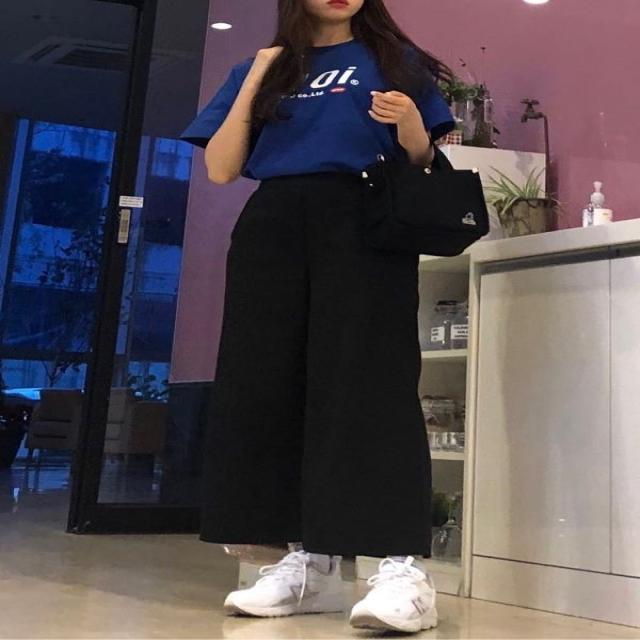shortsleeve: (182, 32, 462, 174)
skirt: (189, 176, 439, 565)
